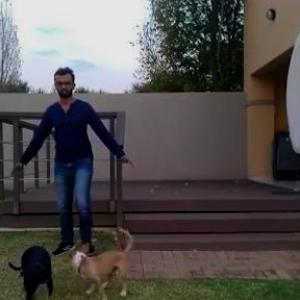land: (18, 66, 133, 266)
